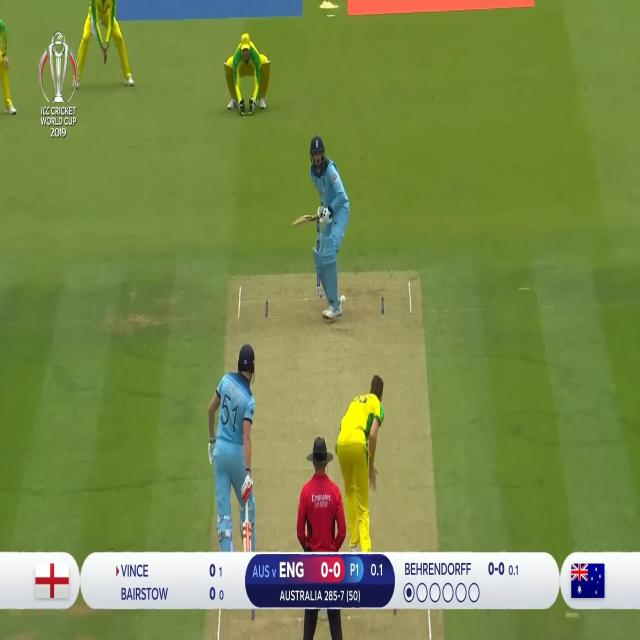ball: (339, 293, 350, 308)
